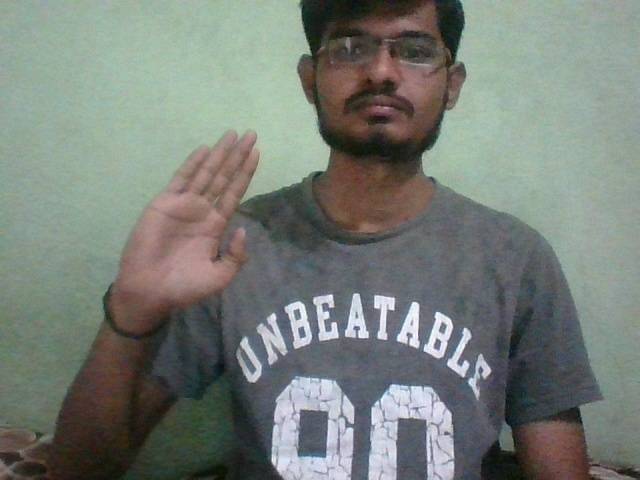Hello: (103, 123, 262, 313)
